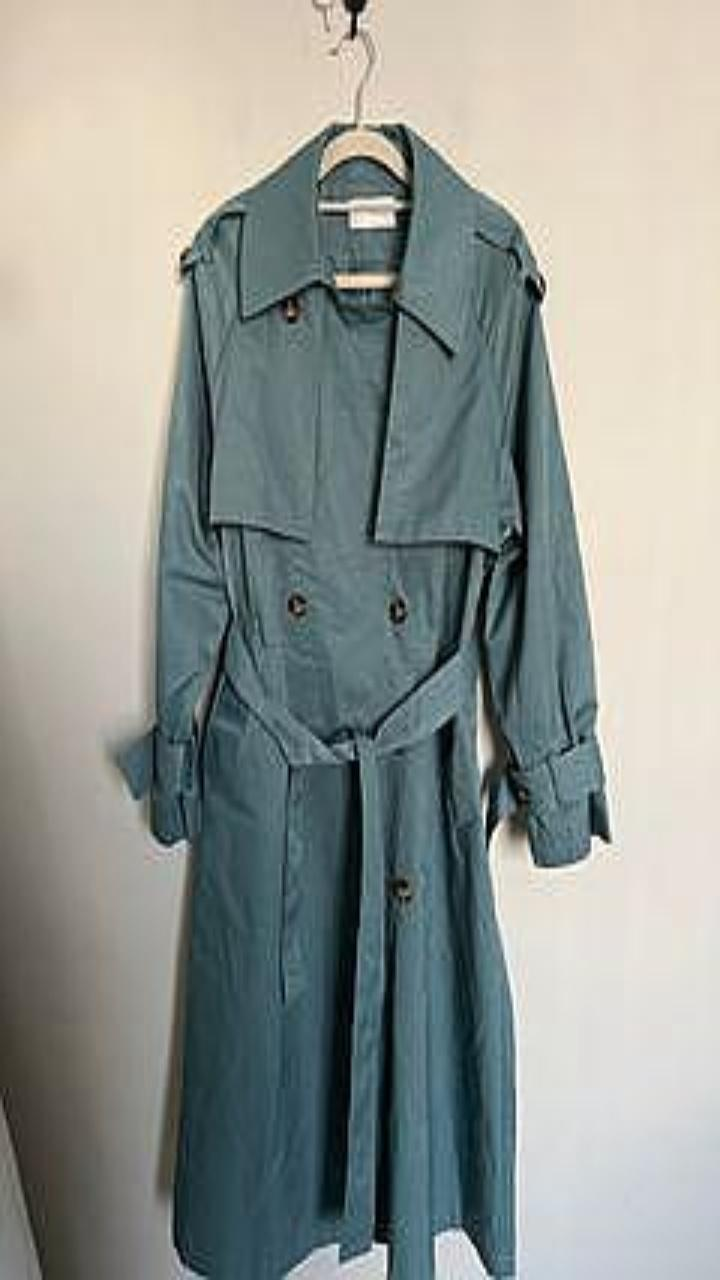Coat: (116, 123, 610, 1279)
